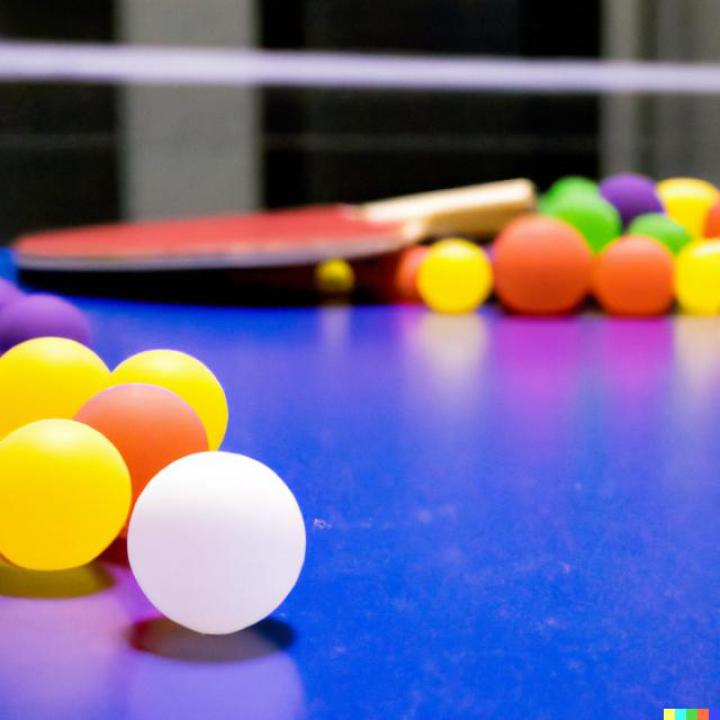orange: (74, 384, 208, 491), (494, 214, 592, 317), (592, 234, 677, 318)
white: (126, 449, 306, 635)
